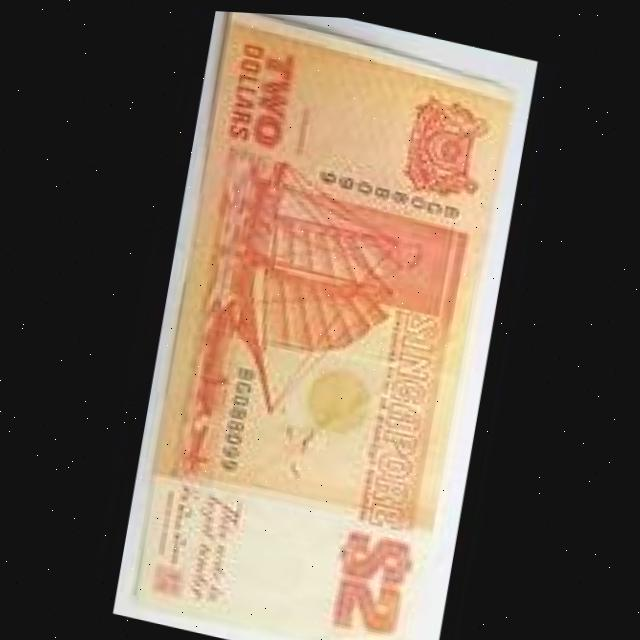banknote: (119, 5, 530, 640), (210, 29, 310, 161), (318, 519, 418, 640)
